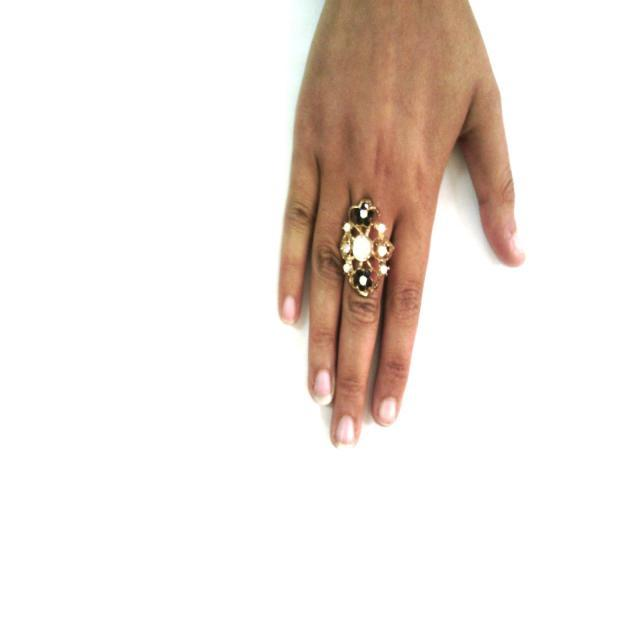Fingernail: (335, 415, 356, 449), (314, 370, 334, 404), (378, 398, 396, 424), (282, 297, 296, 324), (513, 235, 523, 256)
